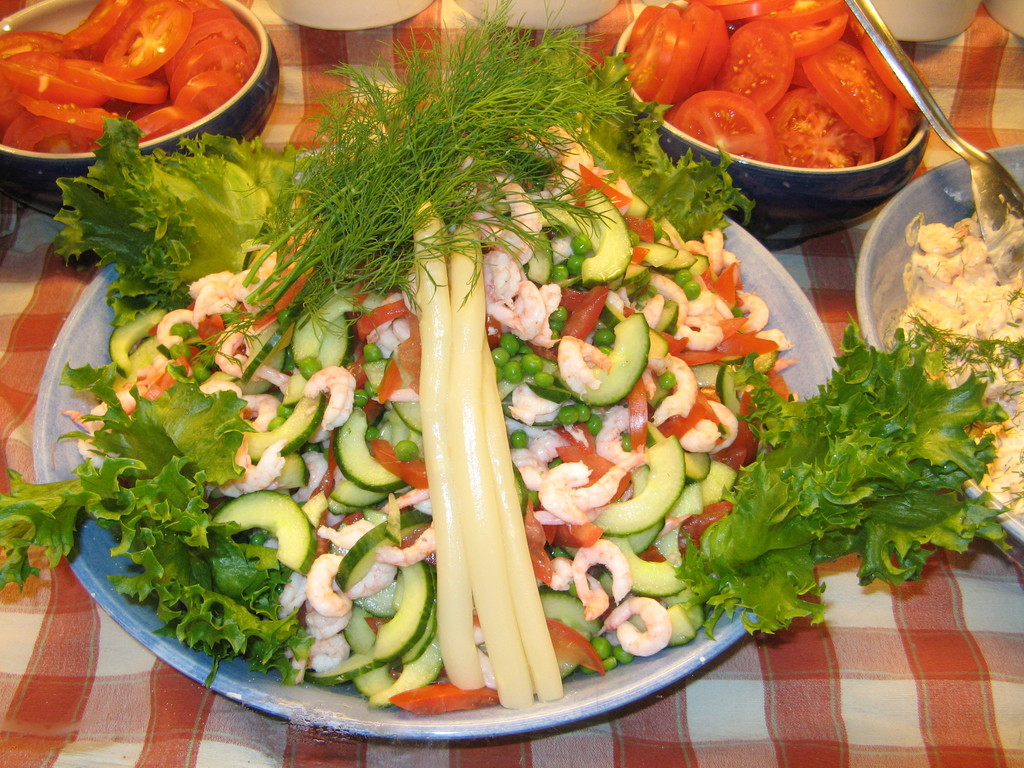Tomato: (620, 0, 920, 167), (0, 0, 266, 158)
